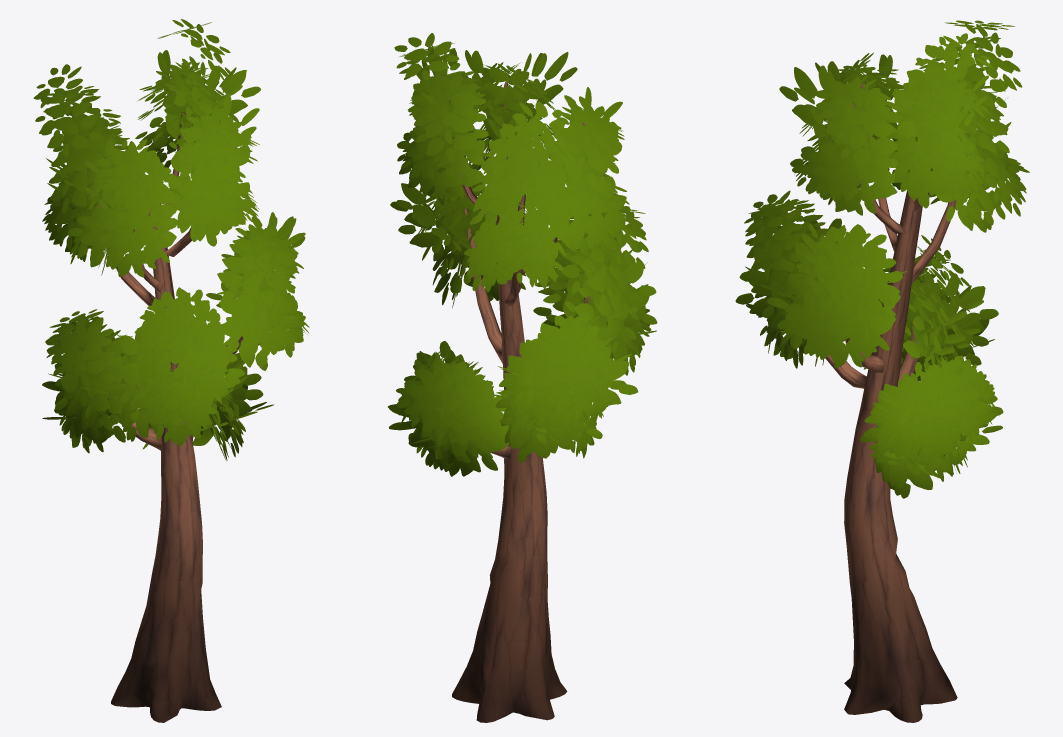
The model's file is commontree_3_lod1.glb.
3 views of the same model, side by side, from view 1: azimuth 30°, elevation 25°; view 2: azimuth 150°, elevation 25°; view 3: azimuth 270°, elevation 25° (orthographic). The views are drawn at different scales.
Parts seen in each view (by area): view 1: CommonTree_3; view 2: CommonTree_3; view 3: CommonTree_3.
Boxes of the visible parts, bbox=[...] form: CommonTree_3: bbox=[33, 19, 309, 722]; CommonTree_3: bbox=[388, 33, 657, 722]; CommonTree_3: bbox=[735, 20, 1029, 722].
Bounding box in the file's own units: 4.03 × 9.13 × 3.99.
Materials: 2 (2 with a texture image).
